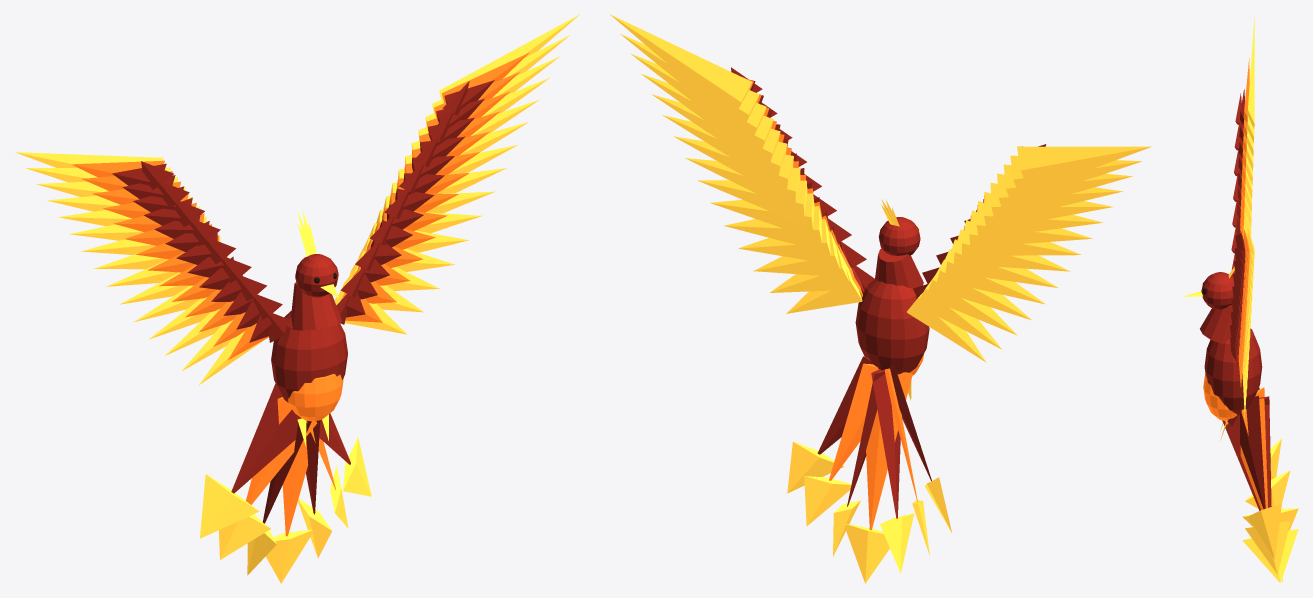
The model's file is PhoenixTotem.fbx.
3 renders of one model, left to right at view 1: azimuth 30°, elevation 25°; view 2: azimuth 150°, elevation 25°; view 3: azimuth 270°, elevation 25°, orthographic. The views are drawn at different scales.
Visible parts, largest first — view 1: Phoenix_Gold, Phoenix_Red, Phoenix_Orange; view 2: Phoenix_Gold, Phoenix_Red, Phoenix_Orange; view 3: Phoenix_Red, Phoenix_Gold, Phoenix_Orange.
Boxes of the visible parts, <box> form: Phoenix_Gold: <box>15,14,579,583</box>; Phoenix_Red: <box>112,80,494,523</box>; Phoenix_Orange: <box>71,52,529,536</box>; Phoenix_Gold: <box>610,14,1151,583</box>; Phoenix_Red: <box>731,67,1046,518</box>; Phoenix_Orange: <box>742,77,1019,530</box>; Phoenix_Red: <box>1200,89,1271,510</box>; Phoenix_Gold: <box>1182,16,1298,583</box>; Phoenix_Orange: <box>1203,58,1267,509</box>.
Bounding box in the file's own units: 8.93 × 7.73 × 1.83.
